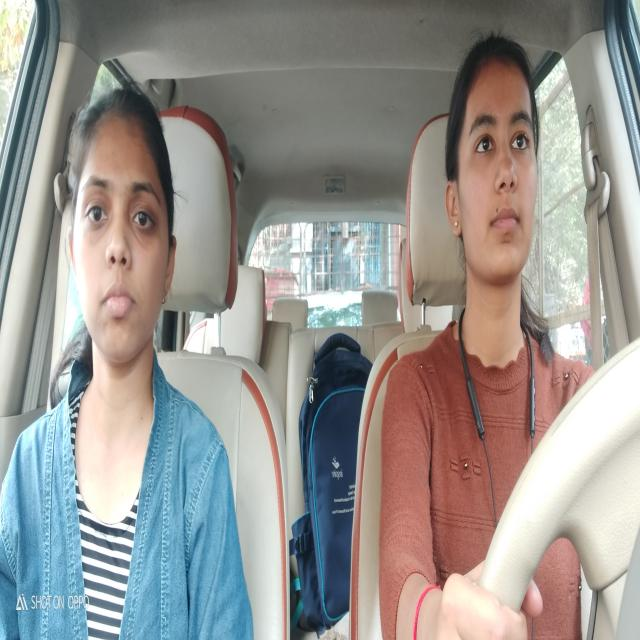person: (66, 102, 177, 369), (452, 34, 541, 290)
